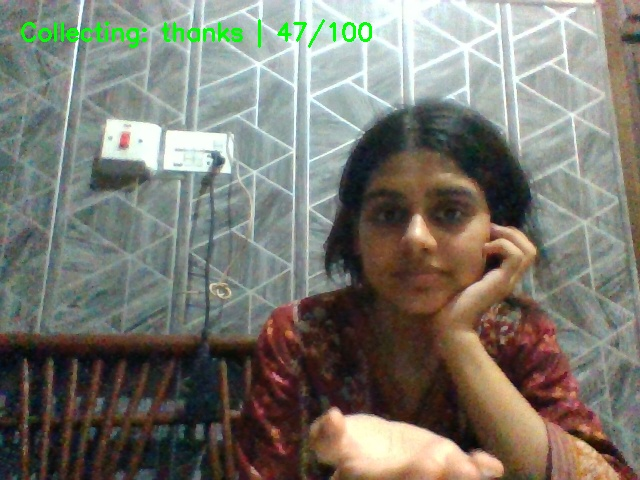thanks: (299, 384, 524, 480)
